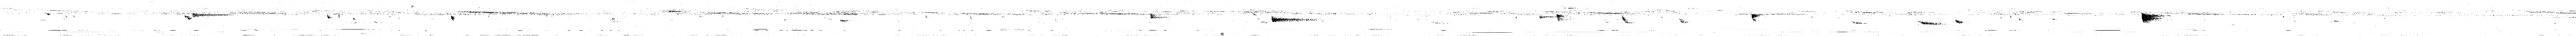meteor: (1272, 15, 1316, 23), (2141, 11, 2164, 25), (192, 13, 228, 18), (1556, 13, 1574, 21), (1621, 15, 1636, 25), (1150, 13, 1171, 20), (1751, 13, 1764, 21), (1919, 20, 1940, 25), (1850, 20, 1868, 25), (1679, 18, 1690, 25), (1955, 18, 1965, 25), (327, 13, 332, 20), (450, 15, 455, 21)
